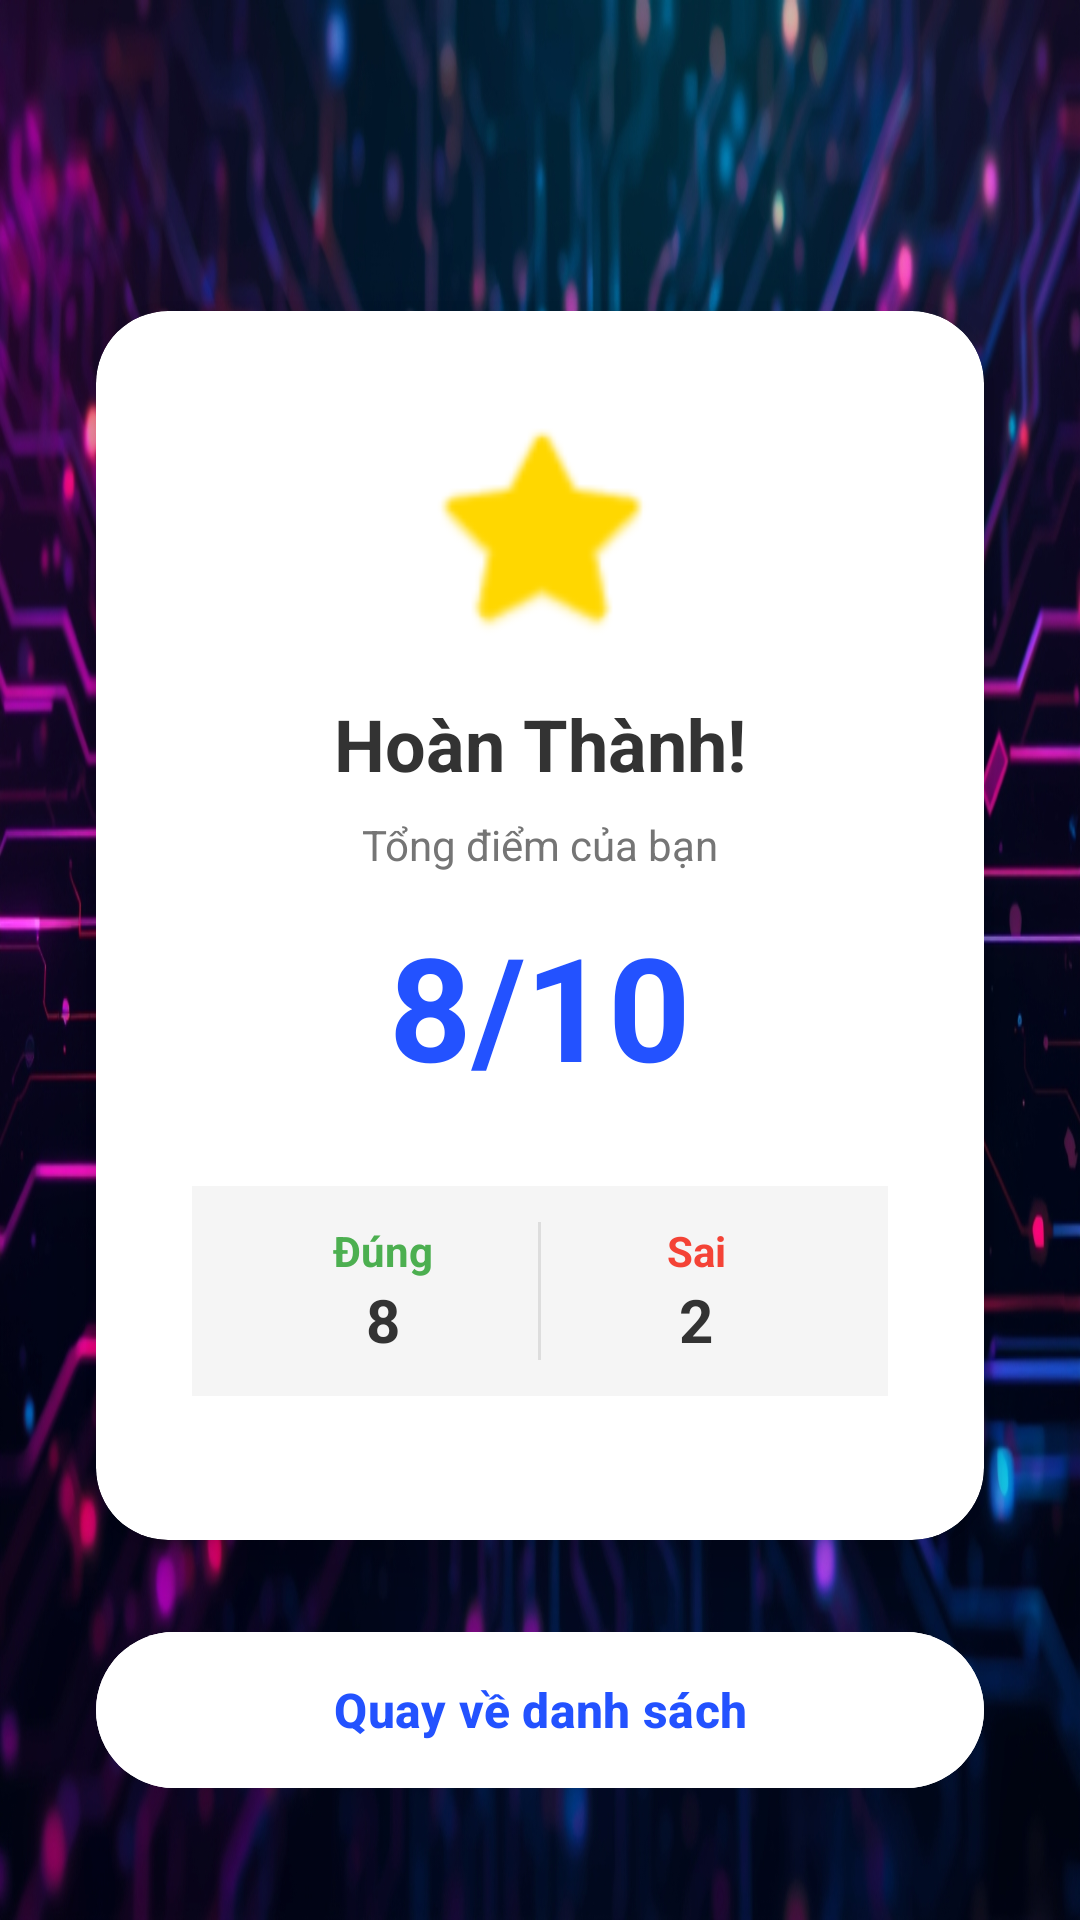

Screen size 1080w x 1920h. Icon name, then its center in pixels as [x,y]:
star on: [542,529]
